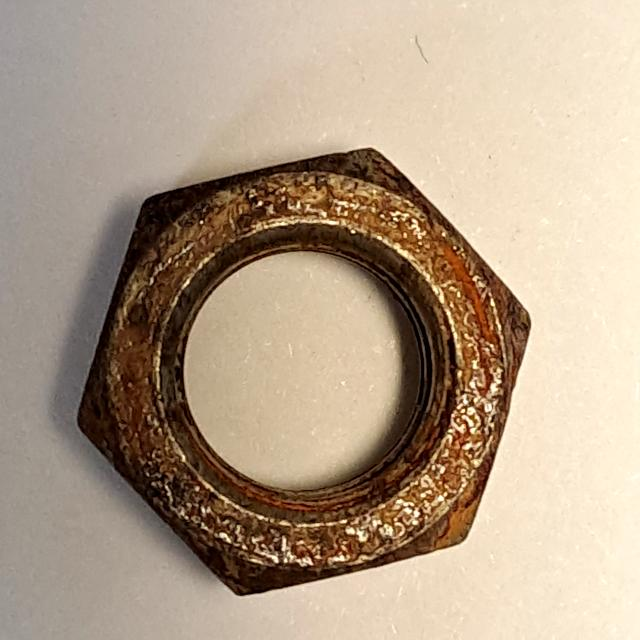Rust: (62, 128, 539, 609)
